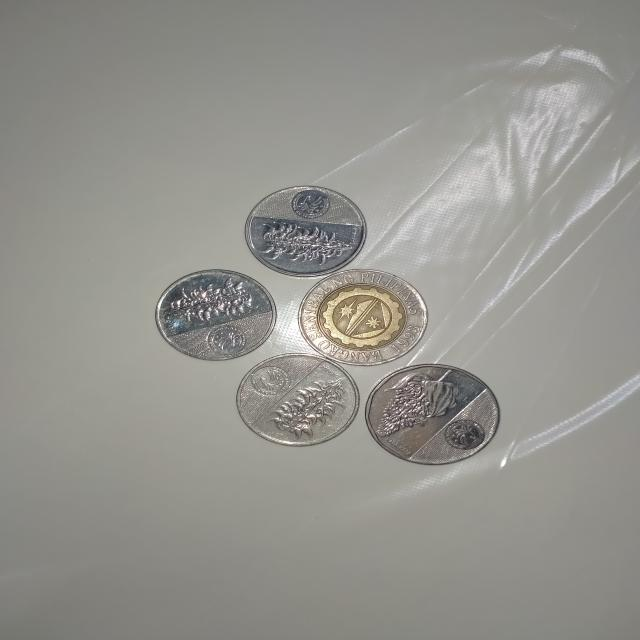10_New_Back: (372, 365, 468, 443)
10_Old_Back: (302, 269, 424, 368)
5_New_Back: (248, 215, 359, 268)
